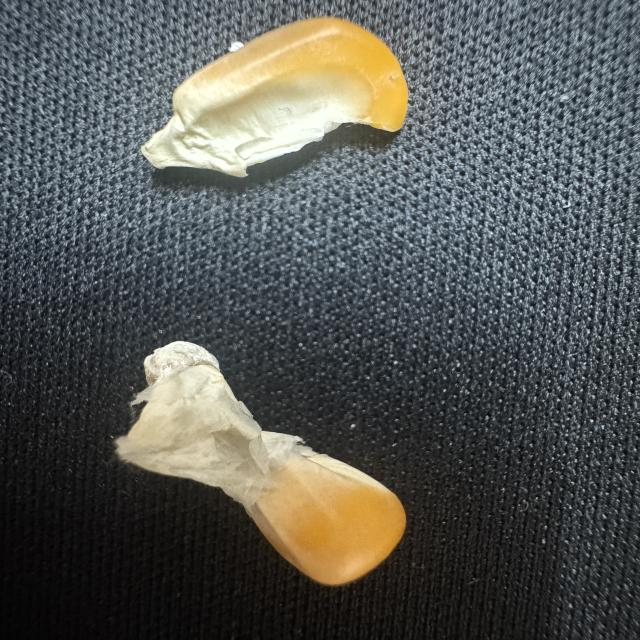Bad-Seed: (100, 328, 428, 591), (123, 14, 423, 186)
